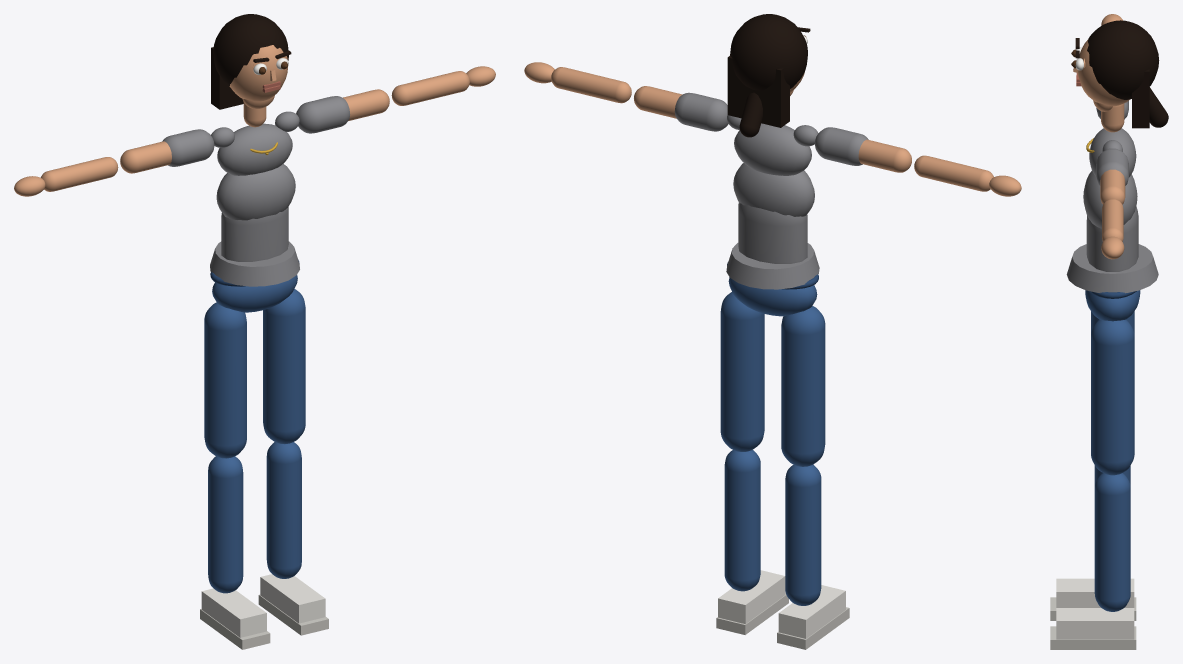
File: trinity.glb
The picture shows the model from 3 angles, left to right: view 1: azimuth 30°, elevation 25°; view 2: azimuth 150°, elevation 25°; view 3: azimuth 270°, elevation 25°; orthographic projection. The views are drawn at different scales.
Visible parts, largest first — view 1: Head, RightUpLeg, LeftUpLeg, RightLeg, LeftLeg, Hips, Spine1, LeftFoot, RightFoot, Spine2, Spine, RightArm (+3 smaller); view 2: Head, RightUpLeg, LeftUpLeg, LeftLeg, RightLeg, Hips, Spine, Spine1, RightFoot, Spine2, LeftFoot, RightArm (+3 smaller); view 3: Head, LeftUpLeg, LeftLeg, Hips, LeftFoot, Spine, RightFoot, LeftArm, Spine1, Spine2, LeftForeArm, Neck (+1 smaller).
Part boxes in pixels (<box>): Head: <box>211,14,291,109</box>; RightUpLeg: <box>204,302,246,458</box>; LeftUpLeg: <box>263,289,305,444</box>; RightLeg: <box>208,456,243,593</box>; LeftLeg: <box>266,442,301,578</box>; Hips: <box>210,241,299,312</box>; Spine1: <box>216,164,295,220</box>; LeftFoot: <box>258,574,328,635</box>; RightFoot: <box>200,588,270,649</box>; Spine2: <box>217,123,292,175</box>; Spine: <box>221,207,288,261</box>; RightArm: <box>120,129,214,173</box>; Head: <box>727,14,810,137</box>; RightUpLeg: <box>781,306,825,466</box>; LeftUpLeg: <box>720,292,764,451</box>; LeftLeg: <box>724,450,760,591</box>; RightLeg: <box>785,464,821,605</box>; Hips: <box>726,243,819,316</box>; Spine: <box>738,202,807,263</box>; Spine1: <box>733,163,814,216</box>; RightFoot: <box>777,585,849,649</box>; Spine2: <box>734,123,811,175</box>; LeftFoot: <box>716,570,788,634</box>; RightArm: <box>815,127,911,172</box>; Head: <box>1071,20,1168,128</box>; LeftUpLeg: <box>1091,319,1134,475</box>; LeftLeg: <box>1094,473,1130,611</box>; Hips: <box>1066,244,1158,321</box>; LeftFoot: <box>1050,608,1136,649</box>; Spine: <box>1086,206,1138,271</box>; RightFoot: <box>1050,578,1136,620</box>; LeftArm: <box>1096,148,1128,204</box>; Spine1: <box>1083,171,1137,228</box>; Spine2: <box>1086,128,1136,177</box>; LeftForeArm: <box>1102,199,1123,241</box>; Neck: <box>1101,103,1124,132</box>.
Bounding box in the file's own units: 1.44 × 1.71 × 0.3032.
